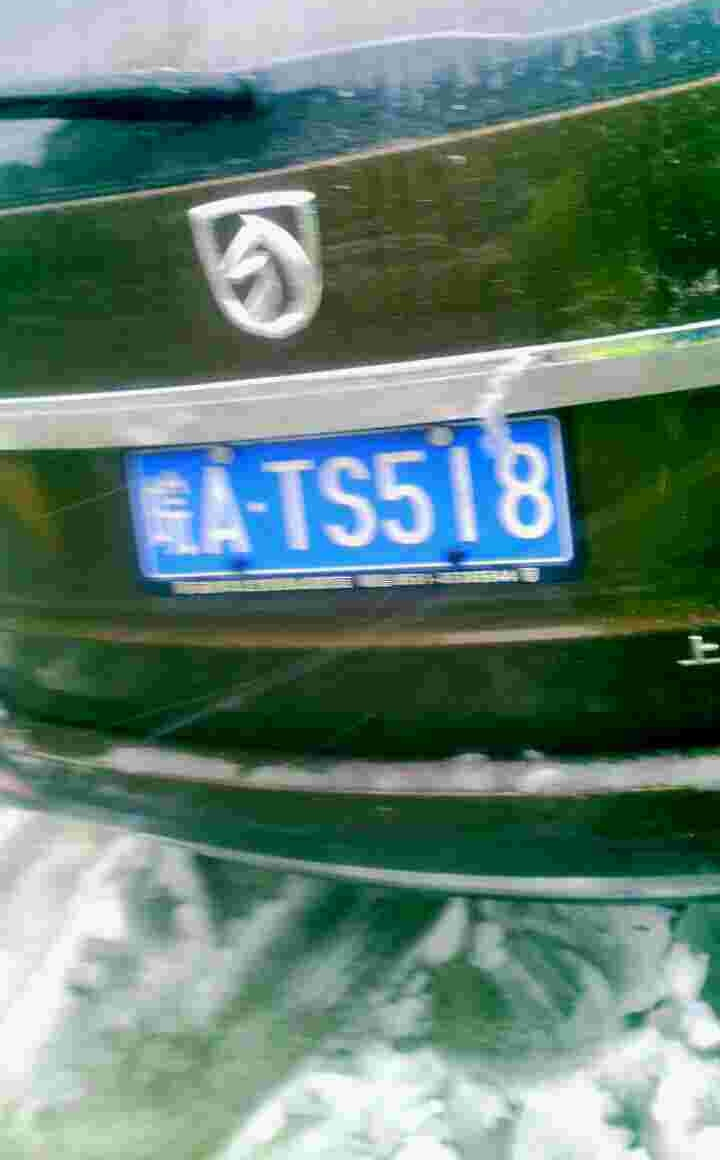plate: (76, 377, 615, 636)
